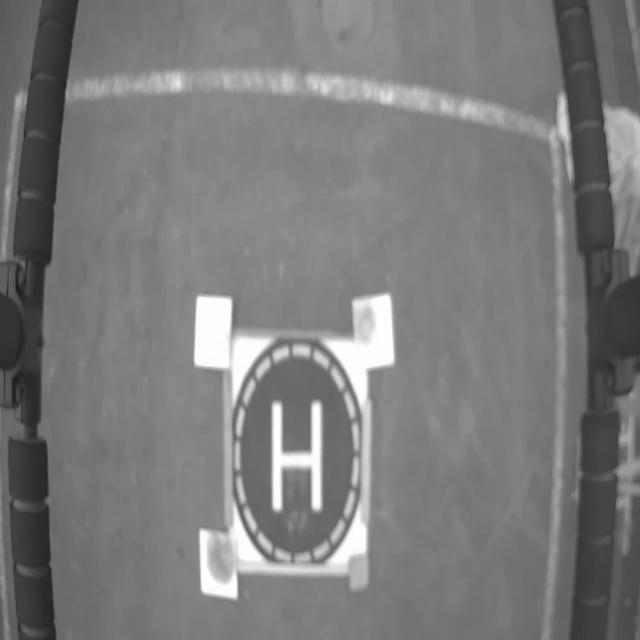Helipad: (271, 404, 322, 513)
